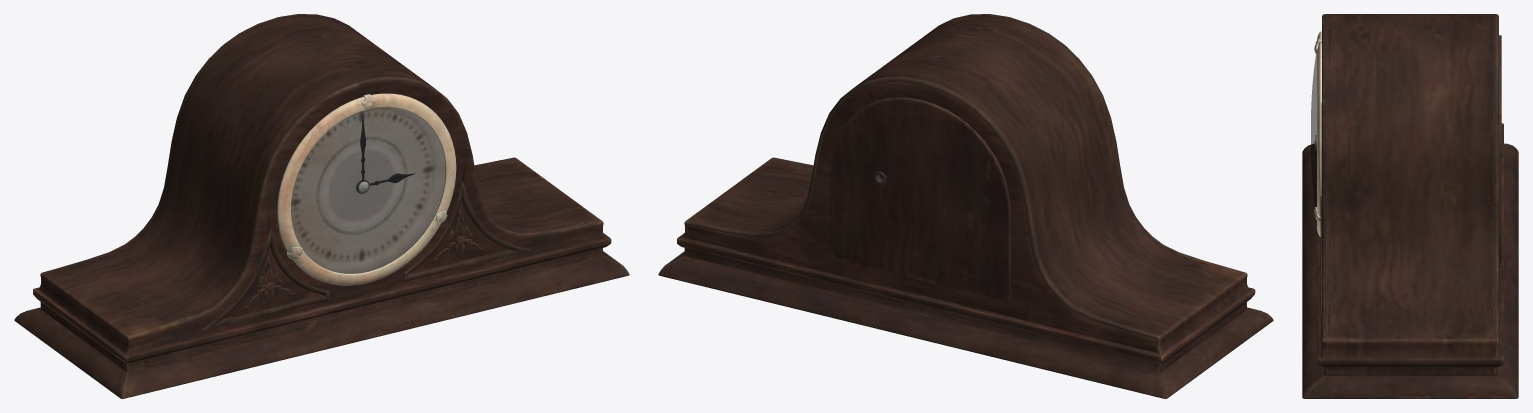
File: mantel_clock_01.glb
3 views of the same model, side by side, from view 1: azimuth 30°, elevation 25°; view 2: azimuth 150°, elevation 25°; view 3: azimuth 270°, elevation 25° (orthographic).
Visible parts, largest first — view 1: mantel_clock_01, mantel_clock_01_glass; view 2: mantel_clock_01; view 3: mantel_clock_01, mantel_clock_01_glass.
Boxes of the visible parts, x1,y1,x2,y2 form: mantel_clock_01: (14, 14, 629, 398); mantel_clock_01_glass: (291, 108, 445, 273); mantel_clock_01: (658, 14, 1273, 398); mantel_clock_01: (1302, 14, 1518, 398); mantel_clock_01_glass: (1311, 53, 1316, 207).
Bounding box in the file's own units: 0.0548 × 0.0257 × 0.0202.
2 materials, 2 textured.
